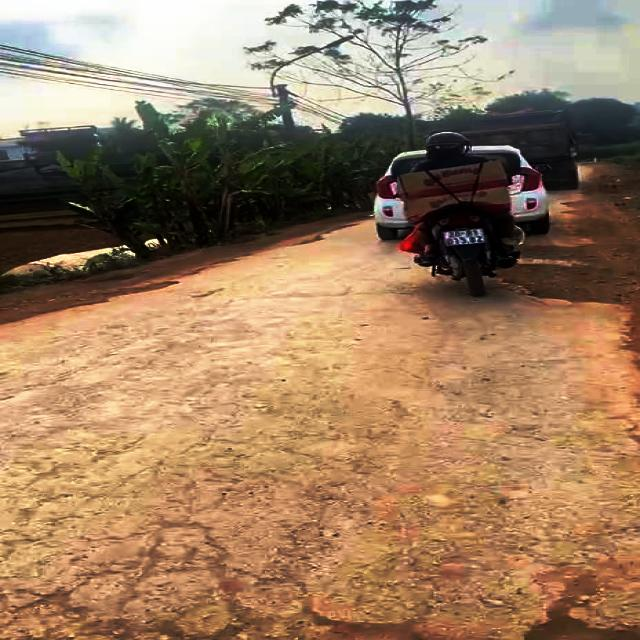pothole: (509, 573, 640, 640), (238, 593, 424, 640), (484, 256, 628, 307)
